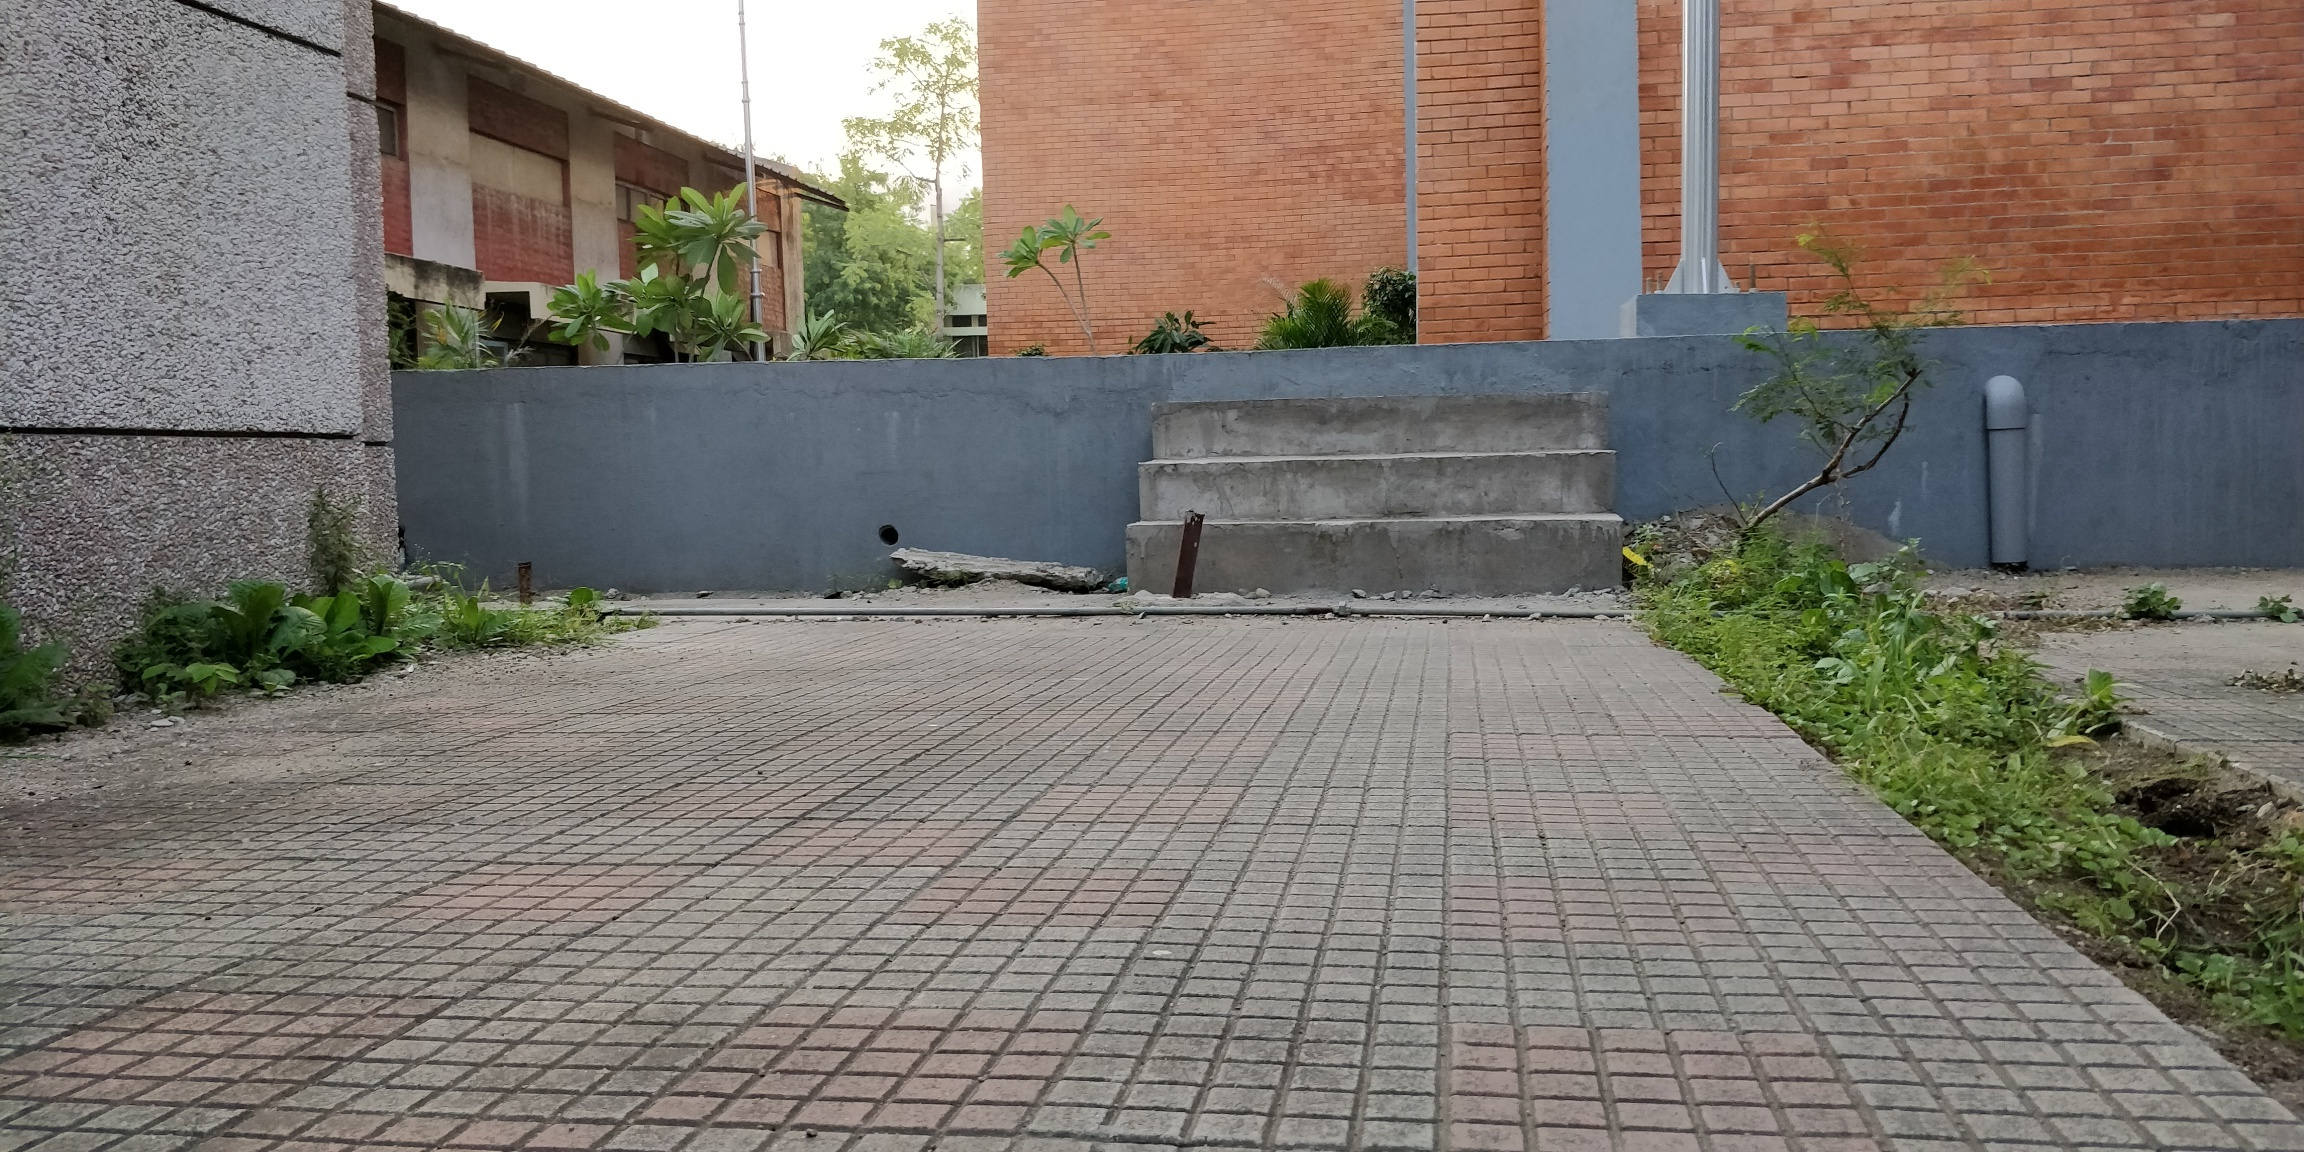stairs_up: (1140, 397, 1615, 594)
